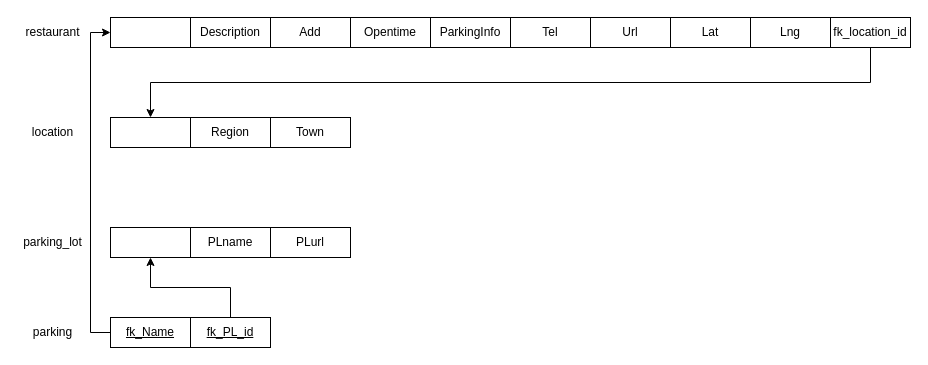
This 928x365 diagram has some shape labels left out. The shapes that lost their labels are listed below. From the top down, each one's centre as x and y in pixels, then its label:
At point 150,32: "Name".
At point 150,132: "location_id".
At point 150,242: "PL_id".
